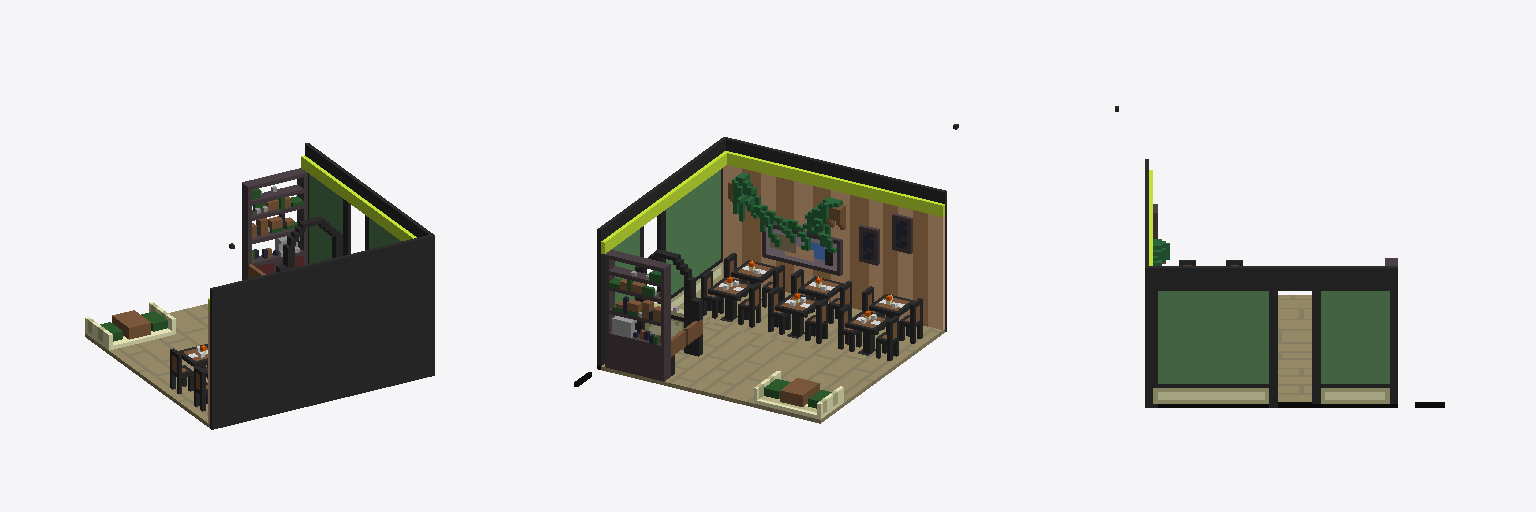
3 renders of one model, left to right at view 1: azimuth 30°, elevation 25°; view 2: azimuth 150°, elevation 25°; view 3: azimuth 270°, elevation 25°, orthographic.
Visible parts, largest first — view 1: object 1; view 2: object 1; view 3: object 1.
Boxes of the visible parts, x1,y1,x2,y2 form: object 1: [85, 143, 434, 429]; object 1: [574, 124, 958, 423]; object 1: [1115, 106, 1444, 407].
Size of the model in its own units: 6 by 5 by 7.7.
1 materials, 1 textured.